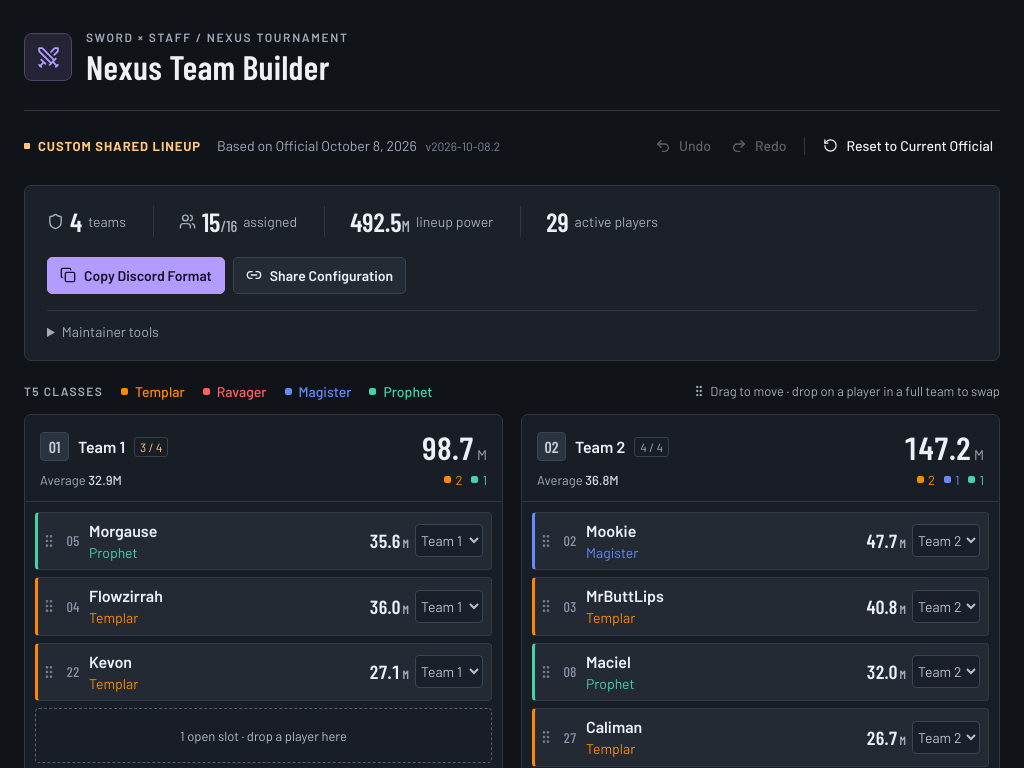
Test: shared lineup label and reset current official
Expected: the text "CUSTOM SHARED LINEUP" is shown, [24, 138, 201, 154]
Step 1. Click the button "Reset to Current Official" → x=908, y=146, box [816, 128, 1000, 164]
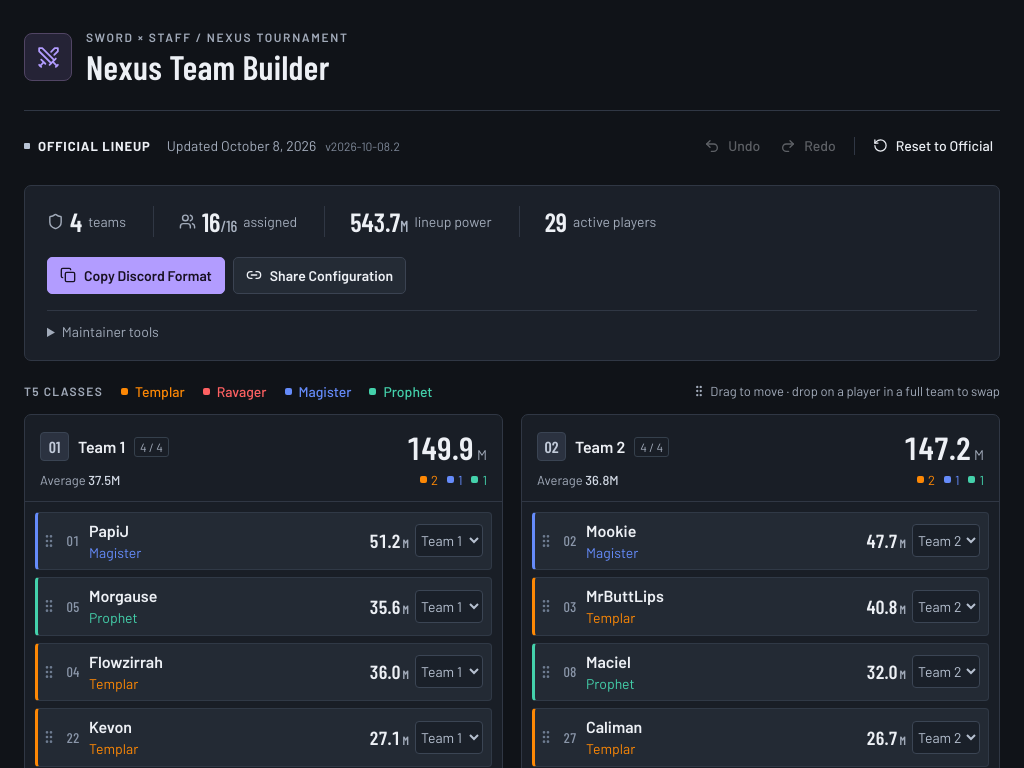
Result: the text "OFFICIAL LINEUP" is shown at [24, 138, 151, 154]
